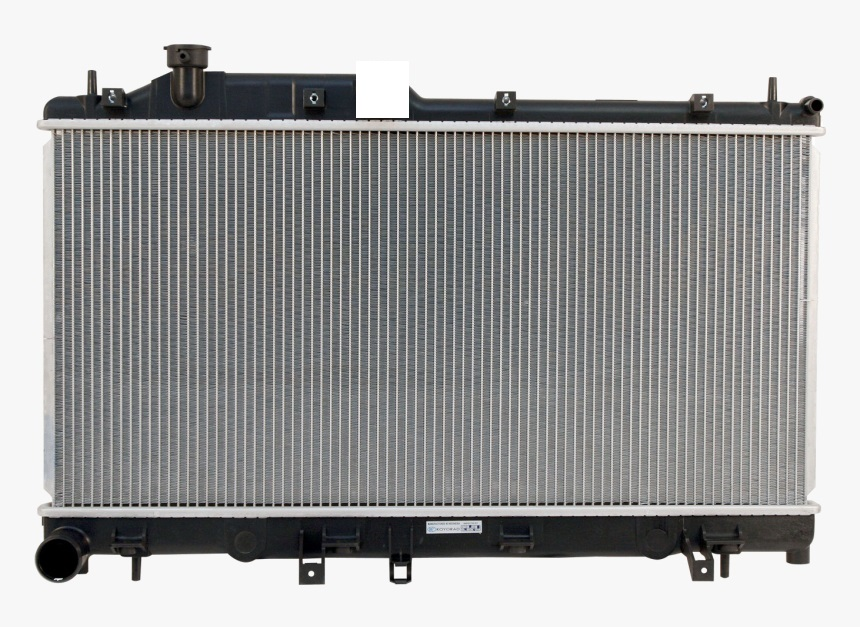c1: (85, 68, 128, 114)
c10: (230, 526, 263, 557)
c11: (297, 526, 361, 585)
c12: (389, 524, 414, 585)
c13: (497, 522, 537, 557)
c14: (681, 527, 747, 582)
c2: (164, 42, 212, 110)
c3: (300, 85, 327, 111)
c5: (495, 89, 519, 112)
c6: (690, 92, 716, 113)
c7: (768, 74, 826, 123)
c8: (33, 524, 92, 586)
c9: (109, 523, 149, 581)
